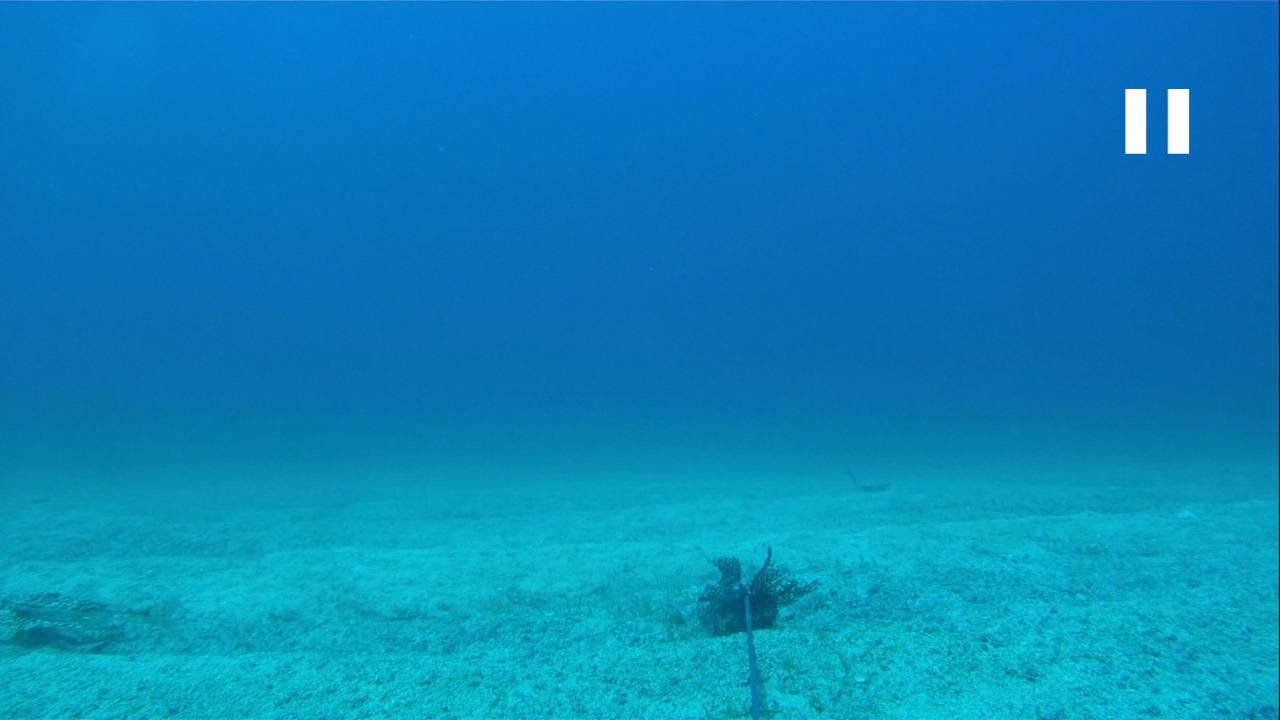dactylopterus: (6, 578, 186, 653)
